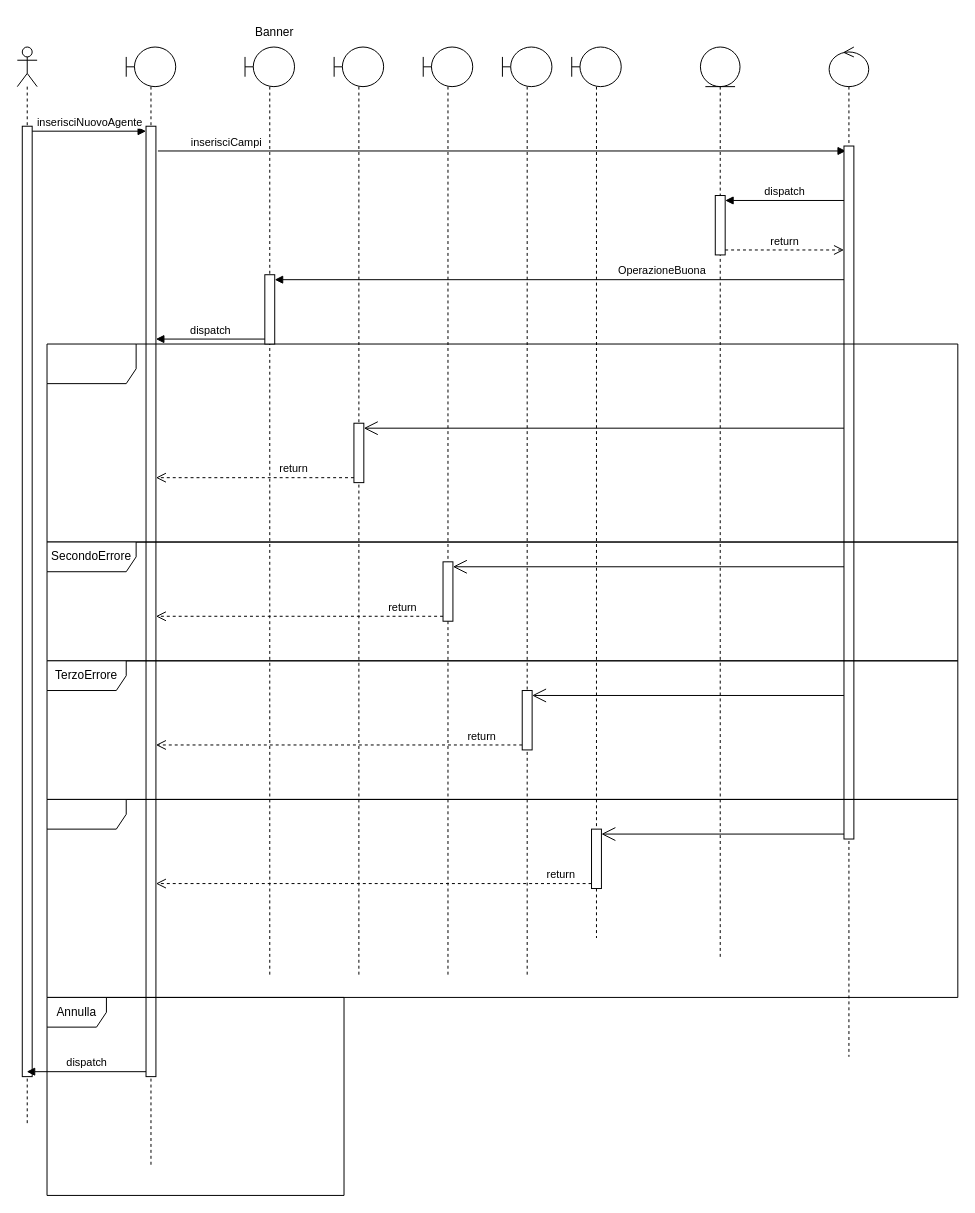
Some shapes in this 975 by 1213 pixel diagram are drawn without their labels. The box of each missing label's shape, as (x1, y1, x2, y2) in pixels:
PrimoErrore: (46, 343, 958, 542)
QuartoErrore: (46, 798, 958, 997)
